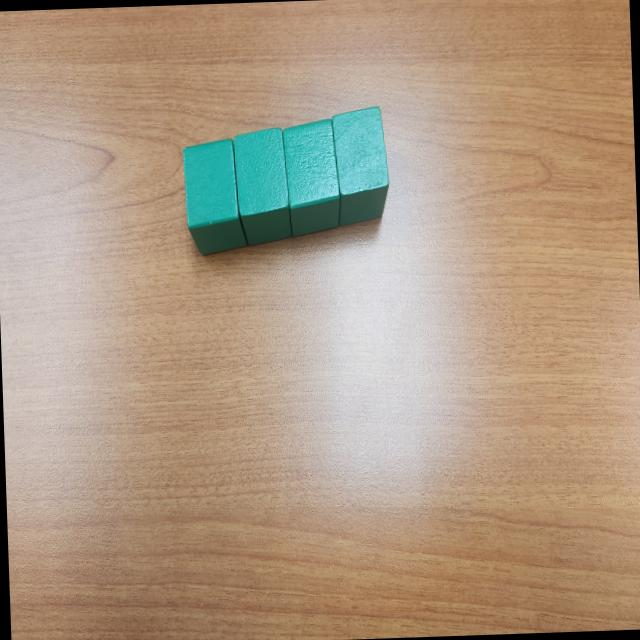green: (181, 137, 247, 254), (282, 116, 342, 238), (232, 127, 292, 247), (331, 105, 390, 226)
